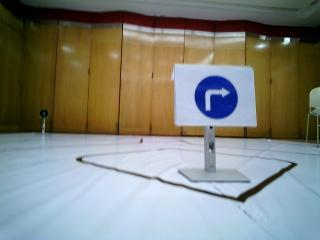right: (167, 66, 255, 128)
